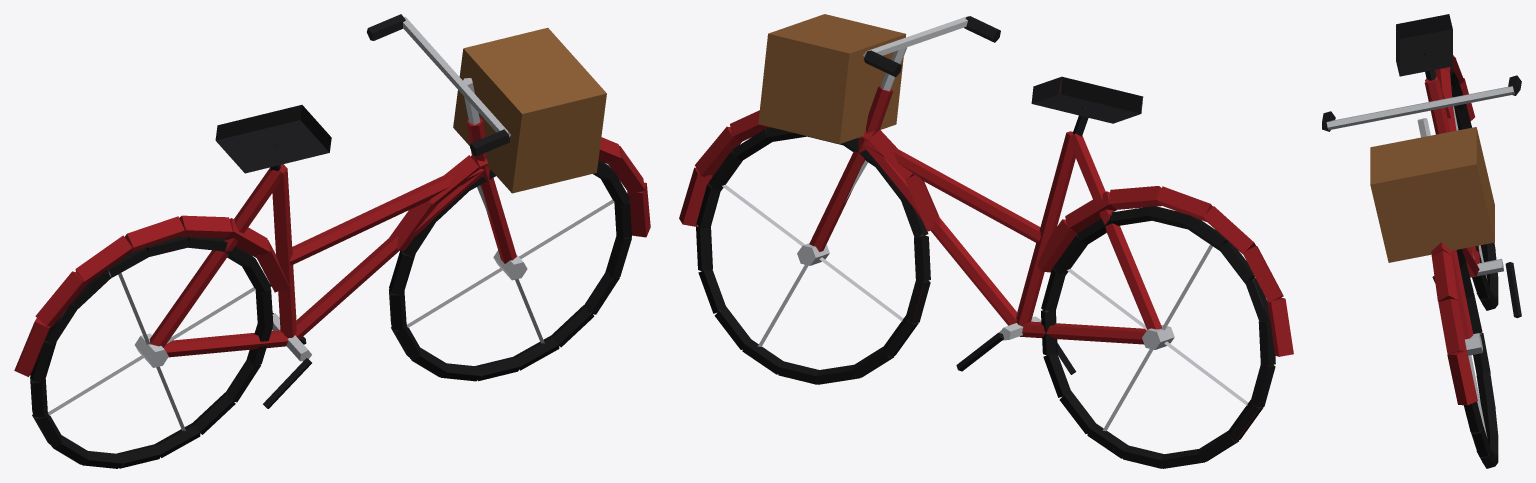
File: kolo_63c7cbcb.glb
3 renders of one model, left to right at view 1: azimuth 30°, elevation 25°; view 2: azimuth 150°, elevation 25°; view 3: azimuth 270°, elevation 25°, orthographic. The views are drawn at different scales.
Parts seen in each view (by area): view 1: dum; view 2: dum; view 3: dum.
Part boxes in pixels (<box>): dum: <box>14,14,650,468</box>; dum: <box>679,14,1293,468</box>; dum: <box>1322,14,1521,468</box>.
Bounding box in the file's own units: 1.95 × 1.09 × 0.5868.
Materials: 1 (1 with a texture image).
